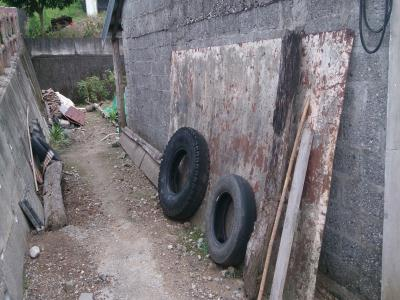tire: (150, 124, 210, 227), (203, 173, 258, 269)
